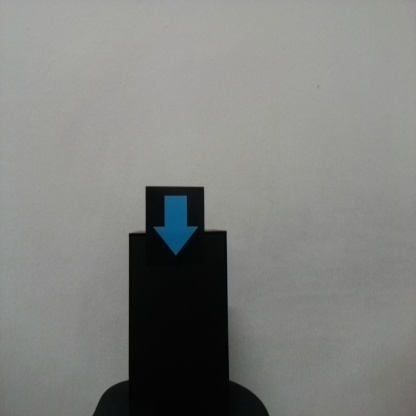id_2: (145, 186, 205, 266)
